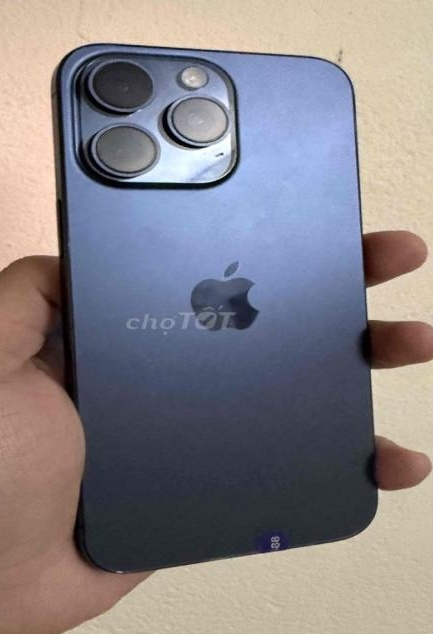physical_damage: (178, 150, 251, 191)
scratch: (106, 560, 129, 577)
